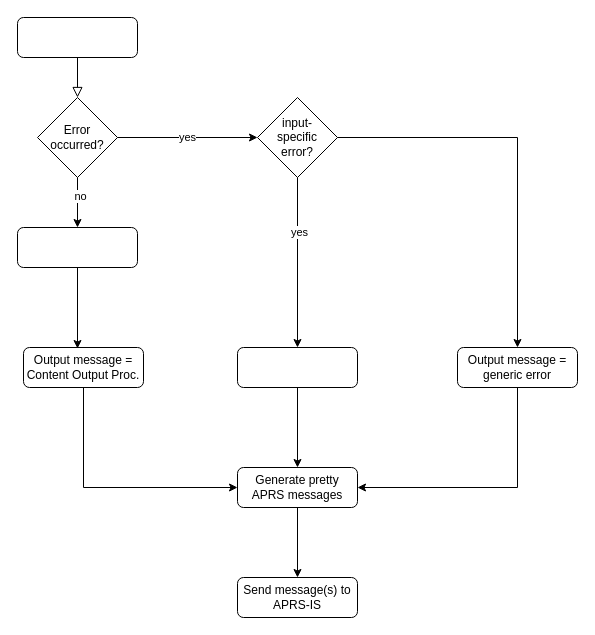
This 595x635 diagram has some shape labels left out. The centre of each missing label's shape, as x and y in pixels:
"Output message = spec. error msg." belongs at point 297,367.
"Run Input Processor" belongs at point 77,37.
"Run Output Processor" belongs at point 77,247.
